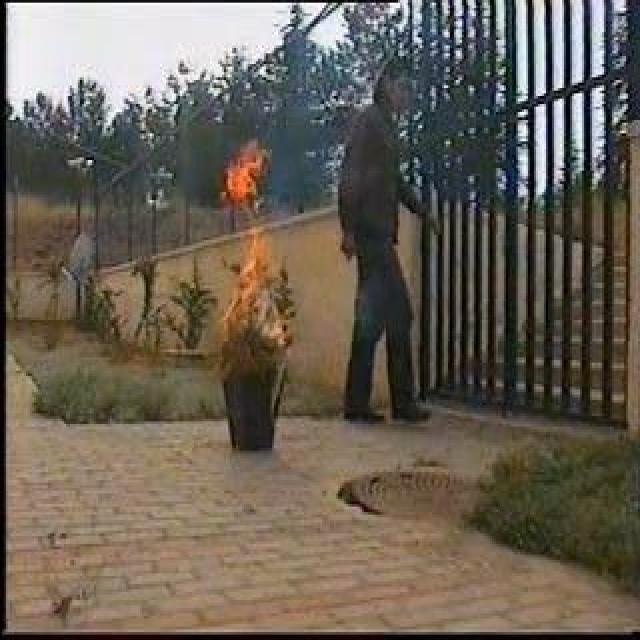fire: (223, 254, 271, 336), (225, 152, 266, 210)
